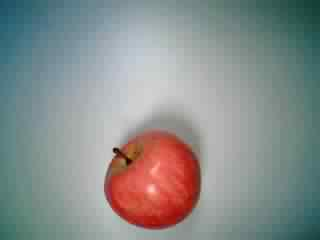apple: (101, 127, 204, 231)
